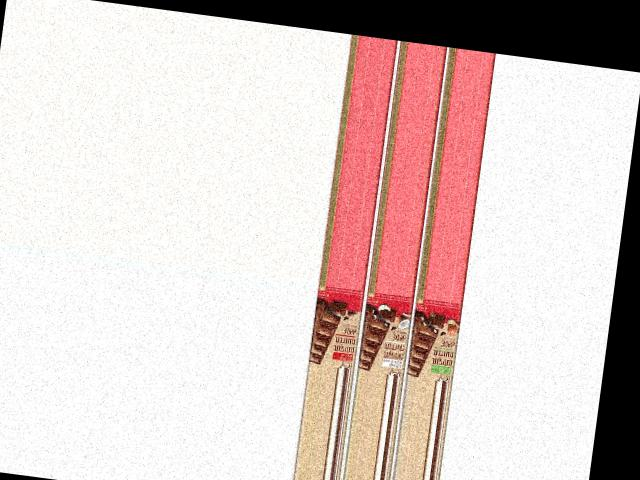chocolate: (407, 297, 464, 382)
